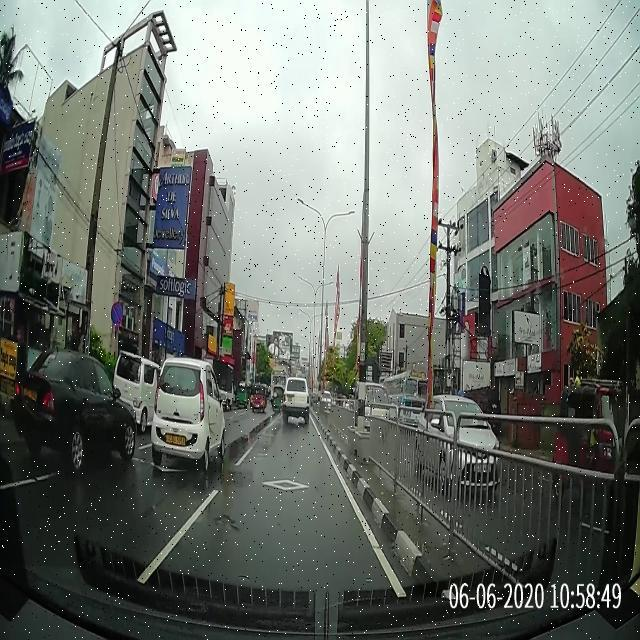diamond: (221, 472, 358, 505)
